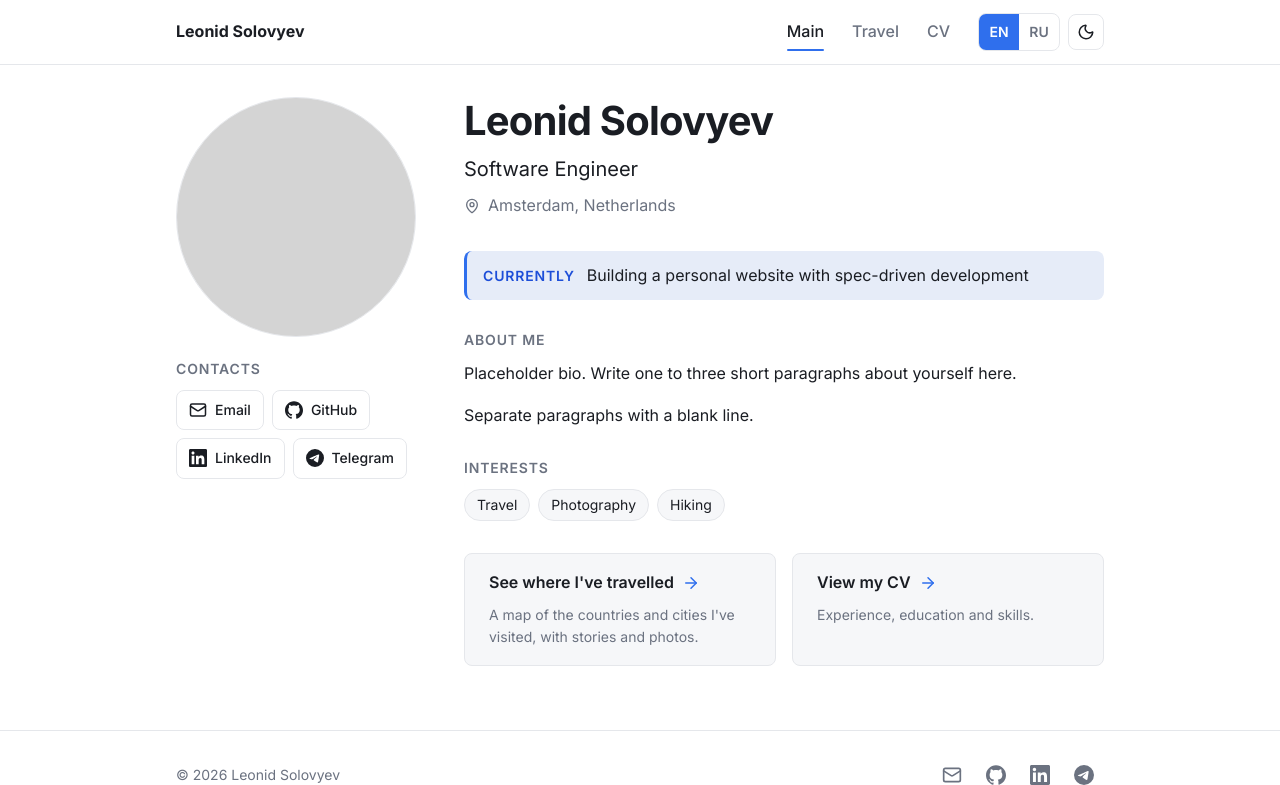
Scenario: header navigation › navigates between pages
What coordinates should you click on to do the following:
click the link "CV"
I would click on:
 (938, 32)
Its box is [915, 11, 962, 53].
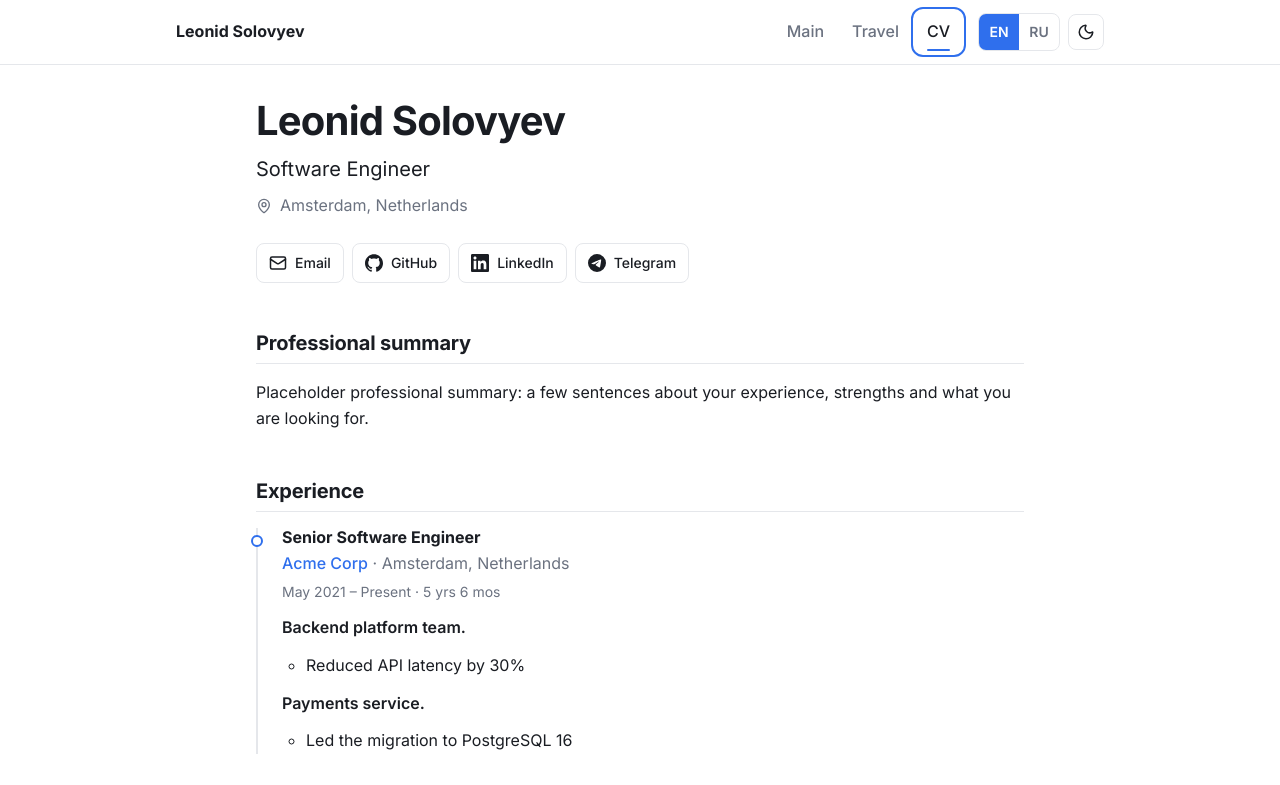
Check: the heading "Experience" is shown, box [256, 479, 1024, 512]
